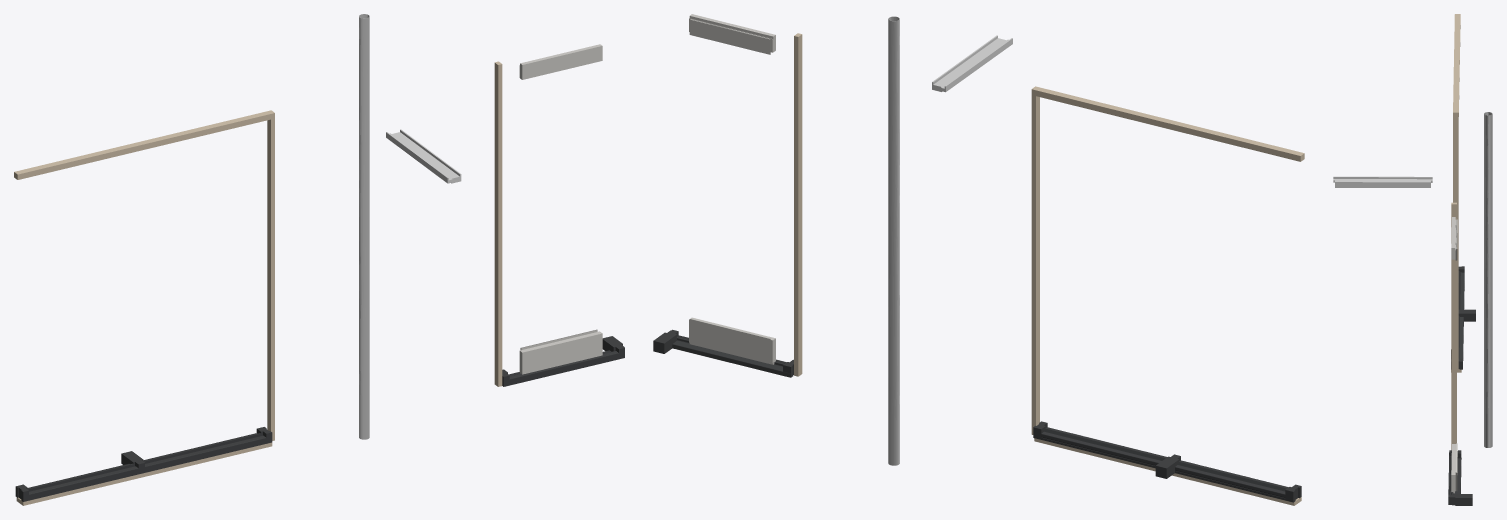
3 views of the same model, side by side, from view 1: azimuth 30°, elevation 25°; view 2: azimuth 150°, elevation 25°; view 3: azimuth 270°, elevation 25° (orthographic). The views are drawn at different scales.
Size of the model in its own units: 5.19 by 3.45 by 1.5.
